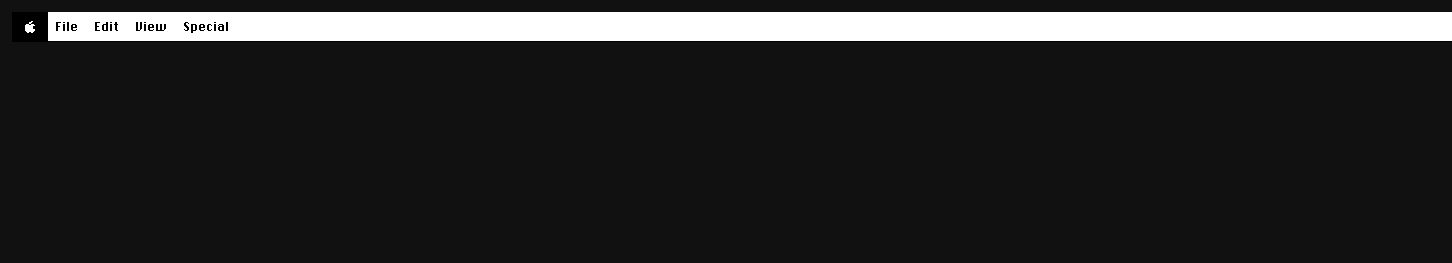
Test: MenuBar › closes dropdown on Escape key
Click the button "File": [68, 26] box 48,12 -> 87,42
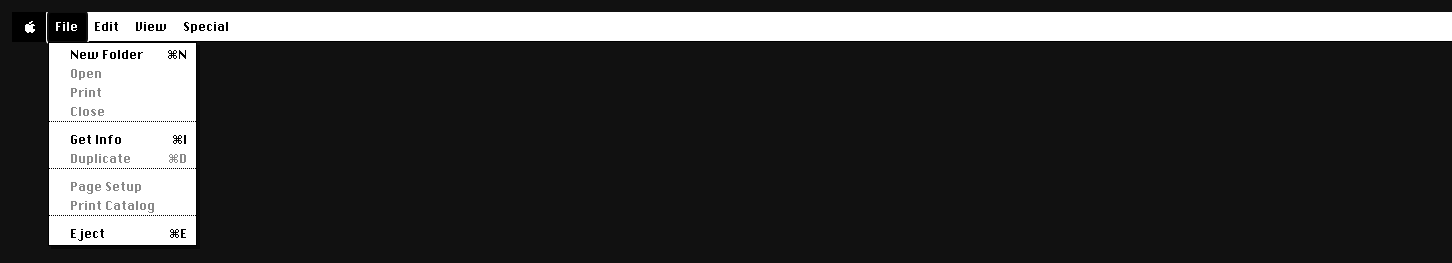
Result: the text "New Folder" is shown at 71,46 -> 144,62
Press Escape
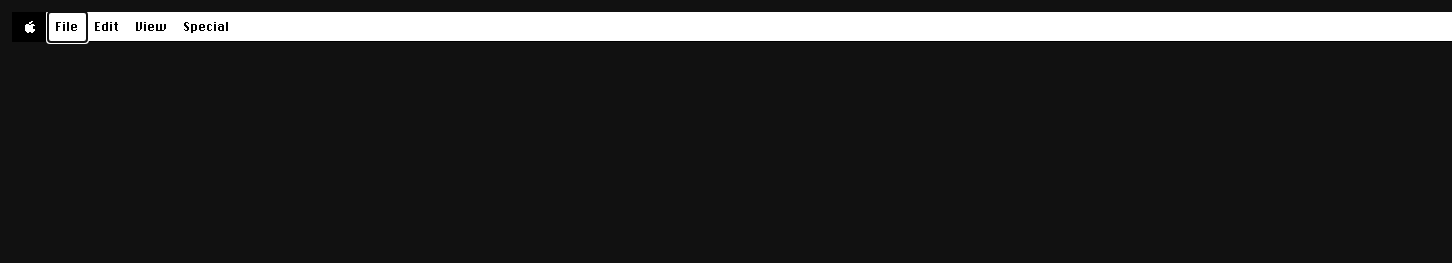
Result: the button "New Folder" is gone
